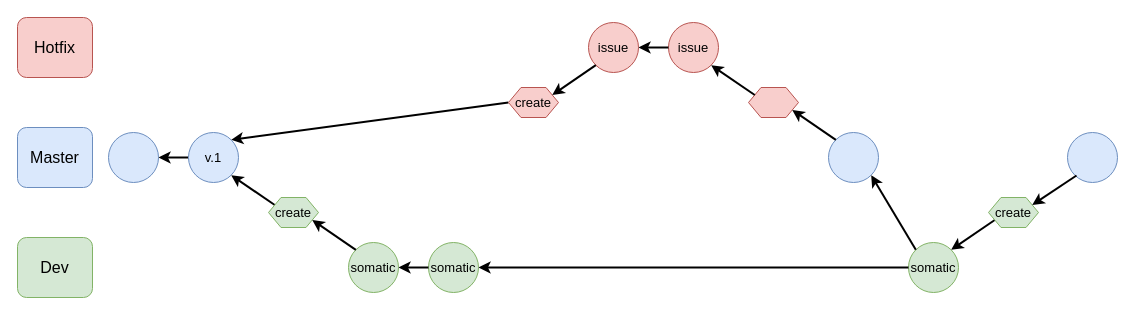
Image size: 1135x315. Some labels were removed from this diagram. Each missing label, with the centre of its shape:
"delete" goes at point 773,102.
"v.0" goes at point 133,157.
"v.1.1" goes at point 853,157.
"v.2" goes at point 1092,157.
